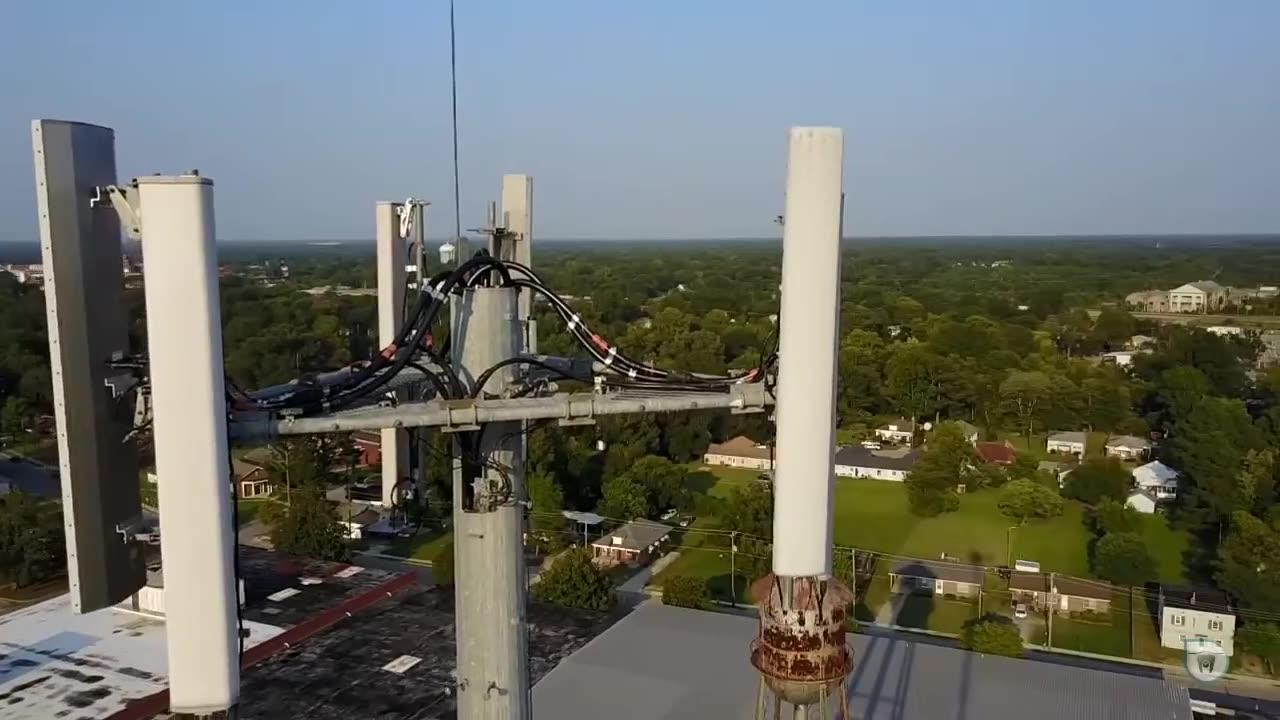antenna: (131, 173, 247, 718), (35, 119, 153, 617), (765, 121, 847, 578), (376, 196, 431, 512), (499, 174, 535, 447)
